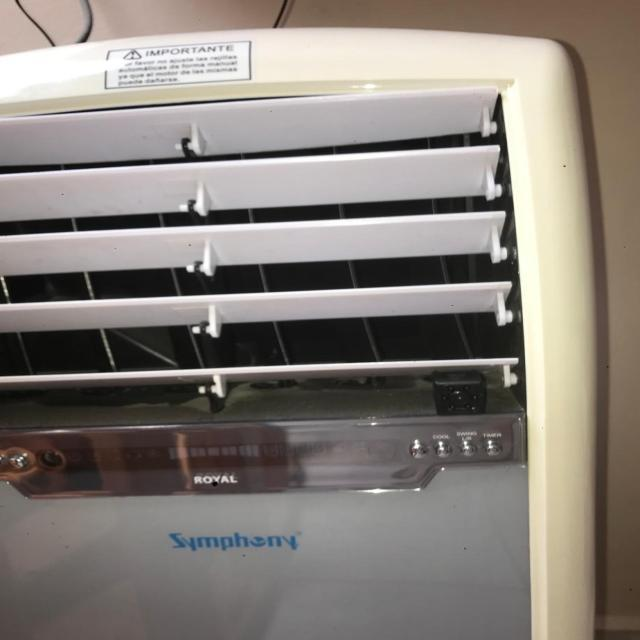hidden camera: (449, 391, 470, 406)
